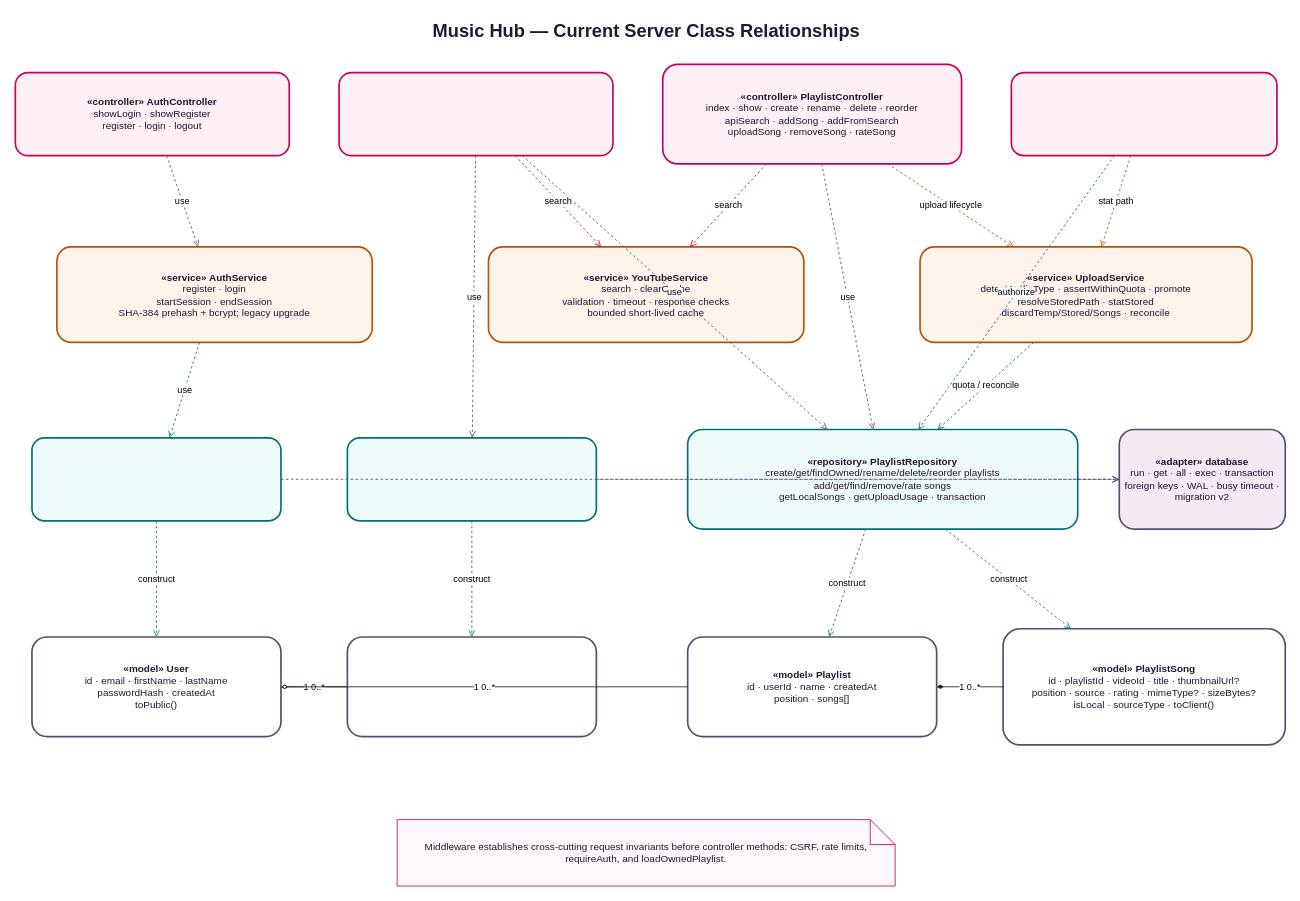
Image size: 1300x901. Some labels were removed from this diagram. The shapes that lost their labels are listed below. From the top down, each one's centre as x and y in pixels, then its label:
the point at 475,113: «controller» FavoriteController index · add · remove
the point at 1143,113: «controller» MediaController stream ownership-scoped byte ranges
the point at 156,479: «repository» UserRepository findByEmail · create updatePasswordHash
the point at 471,479: «repository» FavoriteRepository add · remove · getAll findSavedVideoIds
the point at 471,686: «model» Favorite id · userId · videoId · title thumbnailUrl? · createdAt
